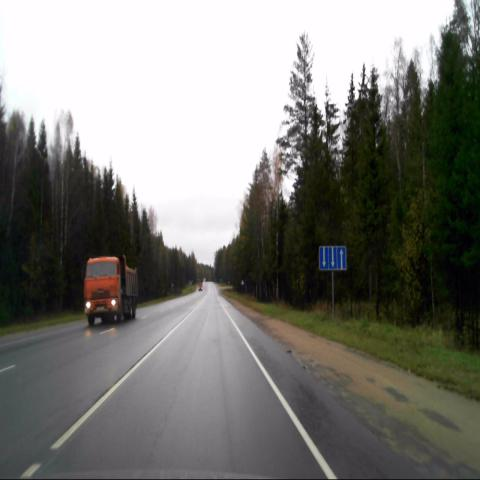5_15_7: (318, 244, 347, 270)
